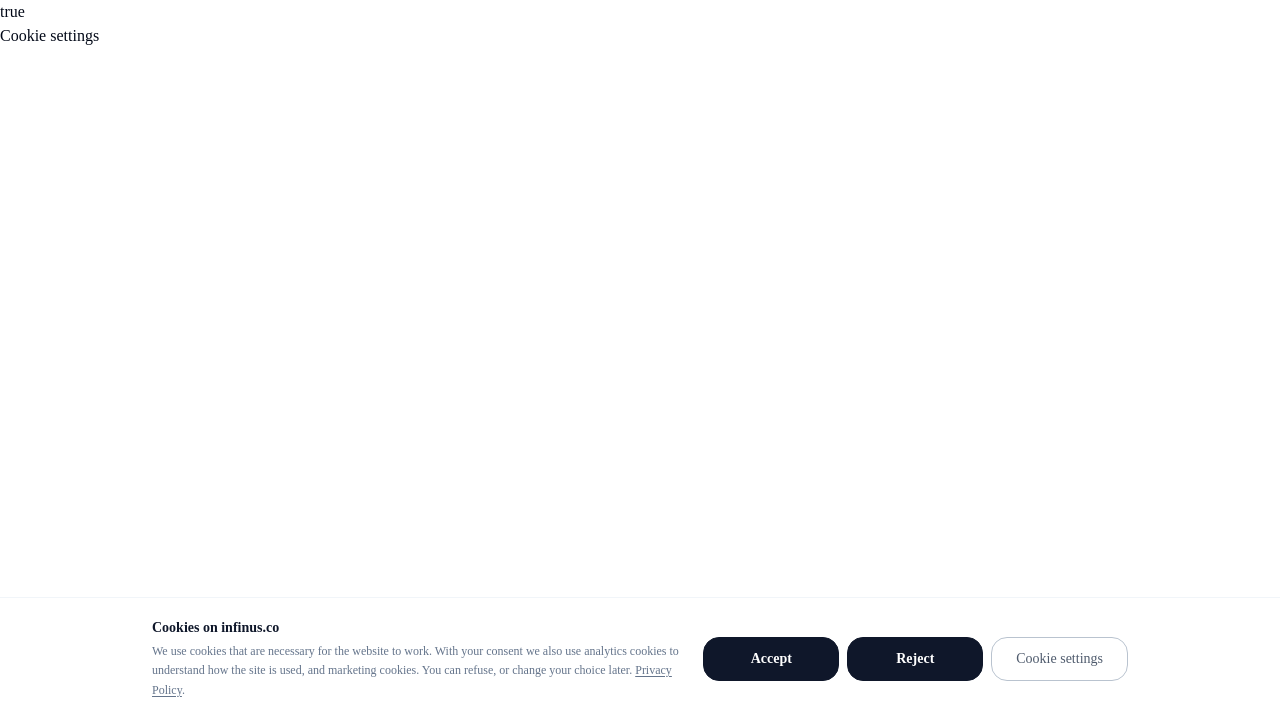
Test: Accept all › allows both categories, stores the decision and dismisses the banner
Expected: the dialog with test id "cookie-banner" is shown, 0,596 -> 1279,719
Click the button with test id "cookie-accept". click: (771, 659)
box: 703,637 -> 839,681
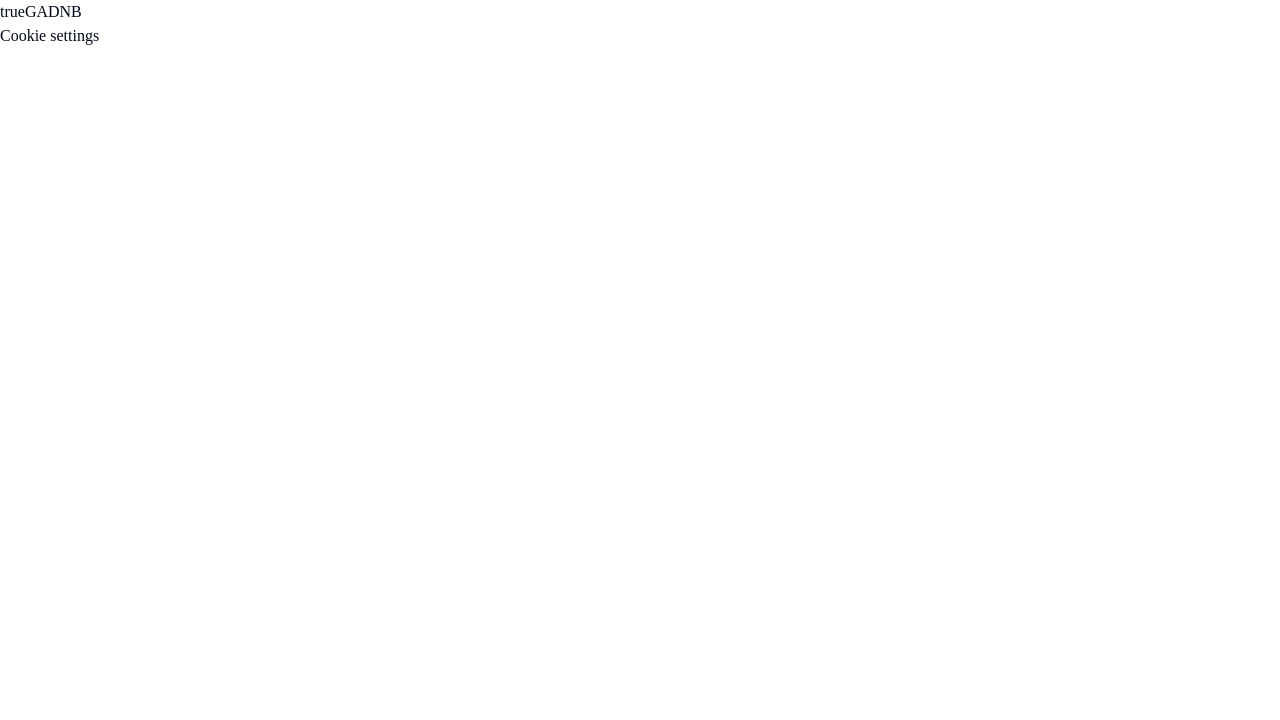
Result: the text "GA" is shown at 25,3 -> 48,20
Result: the text "DNB" is shown at 48,3 -> 82,20
Result: the dialog with test id "cookie-banner" is gone
